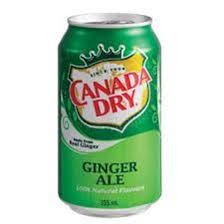Lata: (54, 10, 166, 219)
